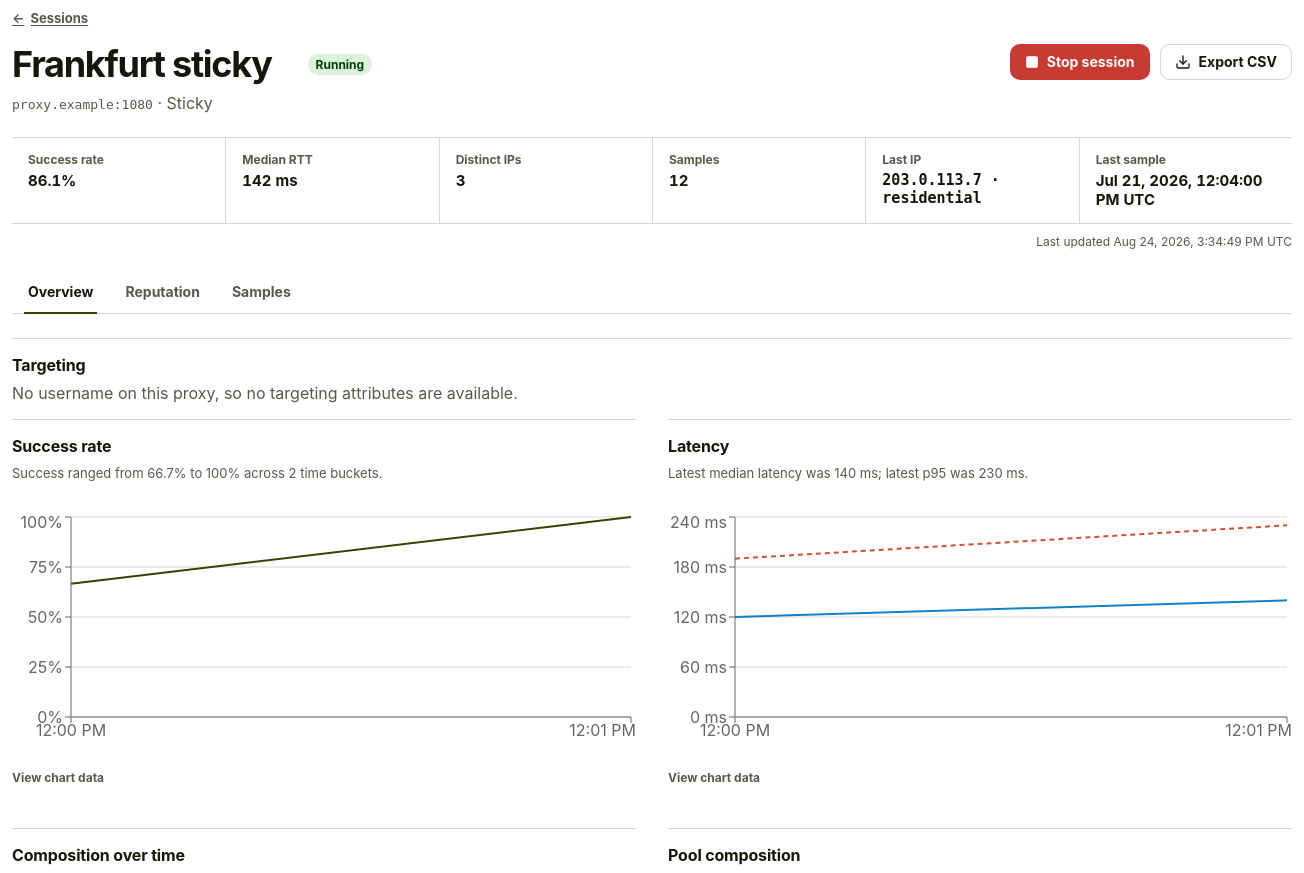
Test: SessionPage › renames the session from the header and shows the stored name
Click the button with aria-label "Rename session name" at (154, 65), box [12,44,296,85]
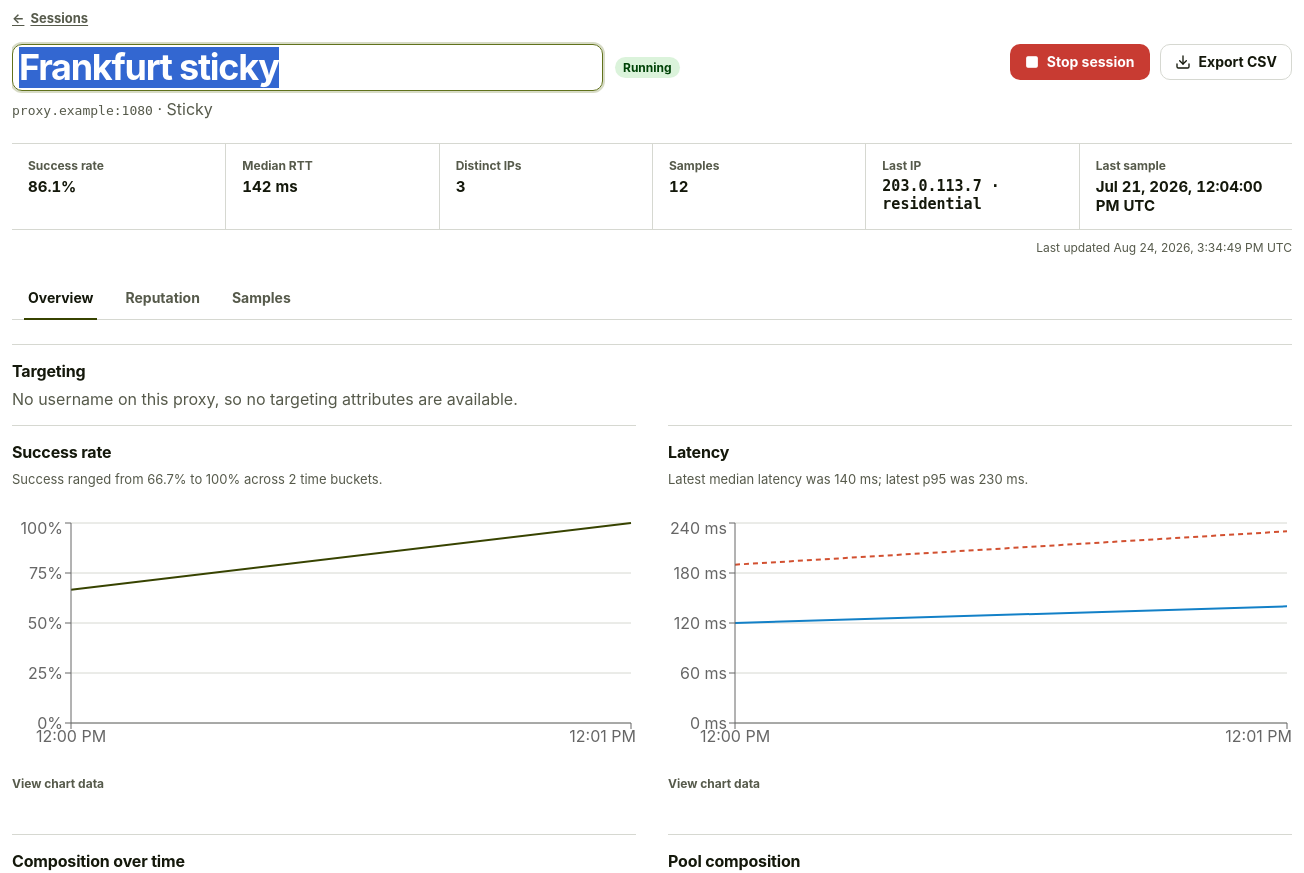
Replace the text in the field named "session name" with "Frankfurt residential" at (308, 68), box [12,44,603,91]
Then press Enter
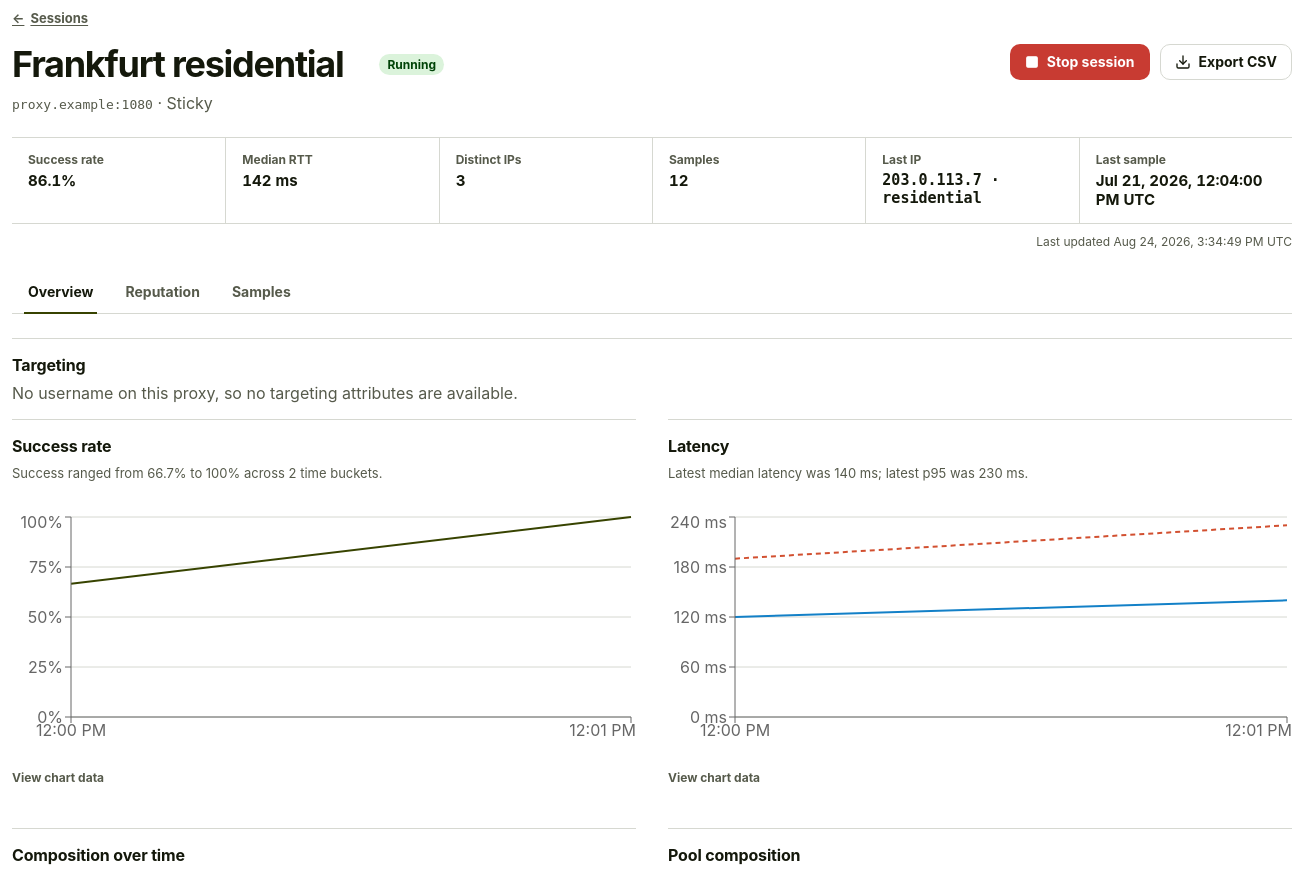
Result: the heading "Frankfurt residential" is shown at [12,44,367,85]
